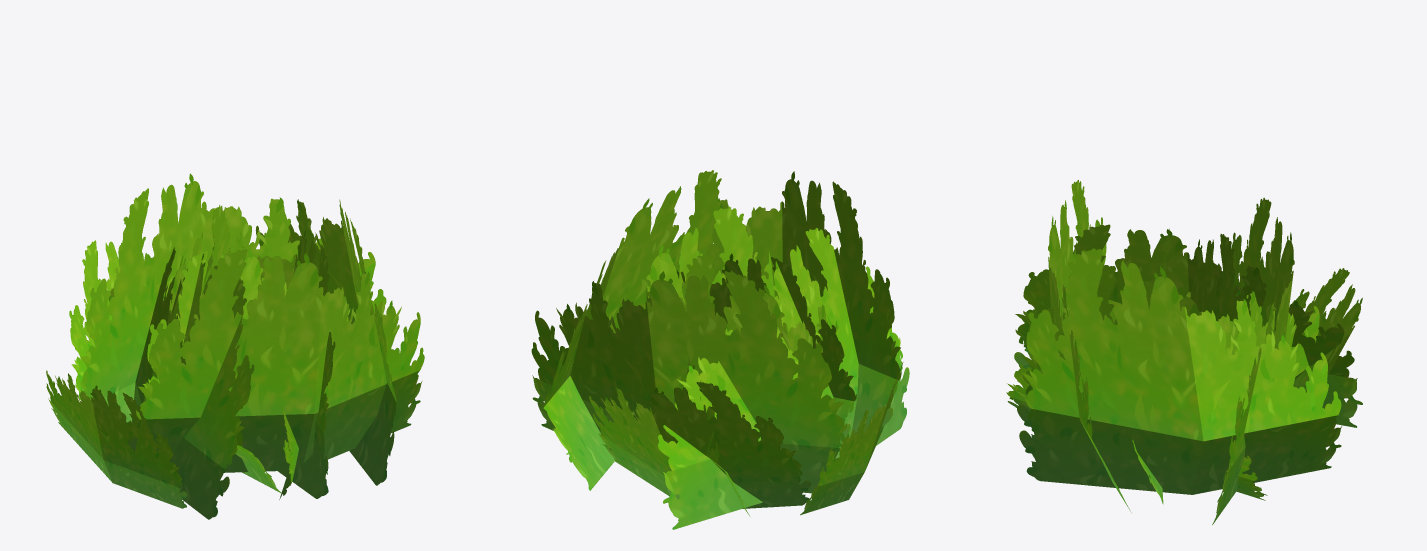
The model's file is SM_Bush1.fbx.
The picture shows the model from 3 angles, left to right: view 1: azimuth 30°, elevation 25°; view 2: azimuth 150°, elevation 25°; view 3: azimuth 270°, elevation 25°; orthographic projection. The views are drawn at different scales.
Parts seen in each view (by area): view 1: Bush; view 2: Bush; view 3: Bush.
Boxes of the visible parts, bbox=[...] form: Bush: bbox=[46, 173, 424, 519]; Bush: bbox=[531, 170, 909, 529]; Bush: bbox=[1006, 180, 1362, 524].
Size of the model in its own units: 186 by 181 by 196.
Materials: 1 (1 with a texture image).
